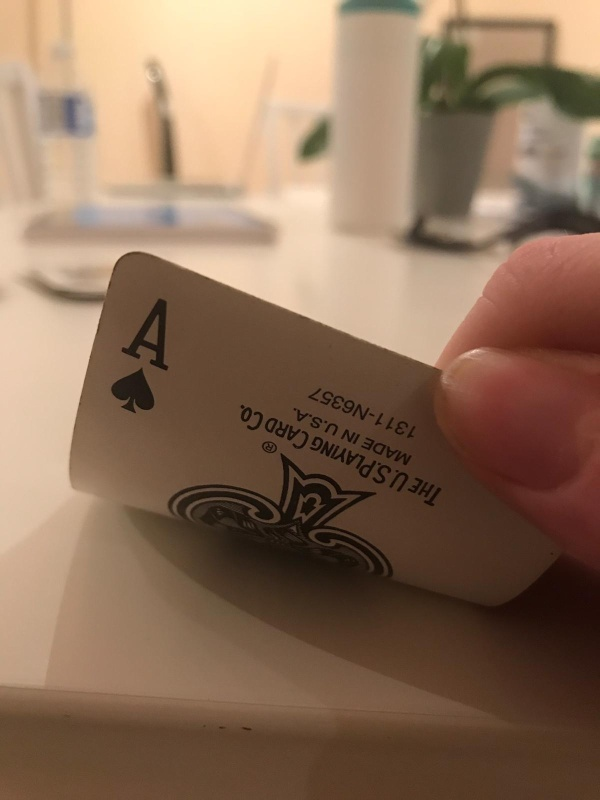Sa: (112, 288, 174, 422)
